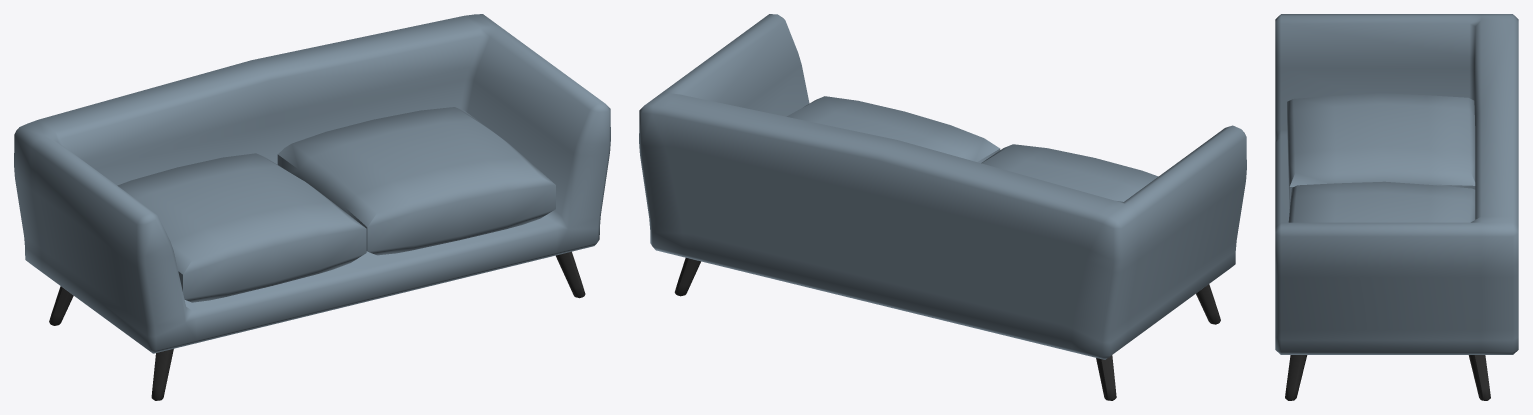
The model's file is sofa2.glb.
3 renders of one model, left to right at view 1: azimuth 30°, elevation 25°; view 2: azimuth 150°, elevation 25°; view 3: azimuth 270°, elevation 25°, orthographic. The views are drawn at different scales.
Parts seen in each view (by area): view 1: Couch_Medium1; view 2: Couch_Medium1; view 3: Couch_Medium1.
Boxes of the visible parts, x1,y1,x2,y2 form: Couch_Medium1: [14, 14, 610, 400]; Couch_Medium1: [639, 14, 1246, 400]; Couch_Medium1: [1275, 14, 1518, 400].
Bounding box in the file's own units: 4.69 × 1.91 × 2.2.
